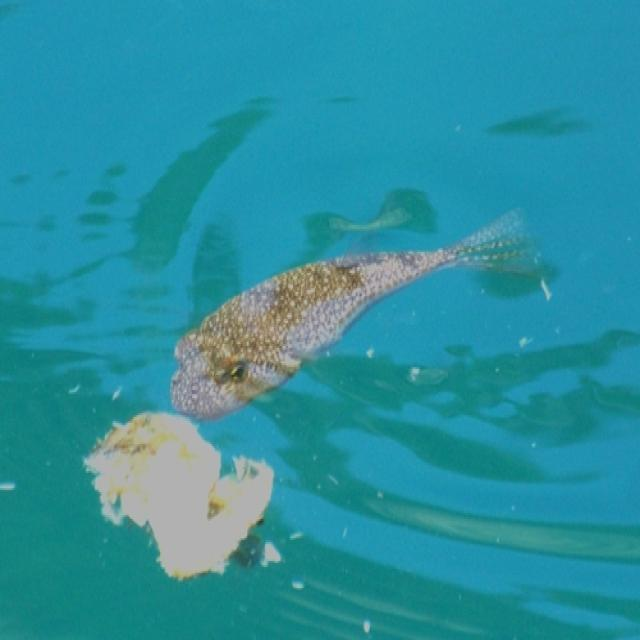Balik: (172, 212, 526, 420)
